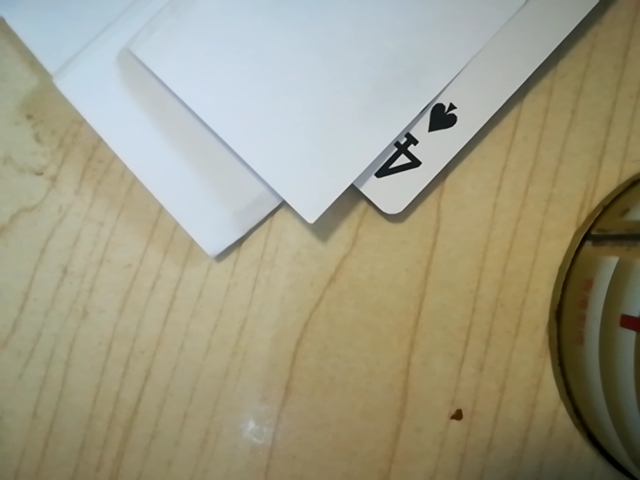ht 4: (354, 89, 476, 209)
